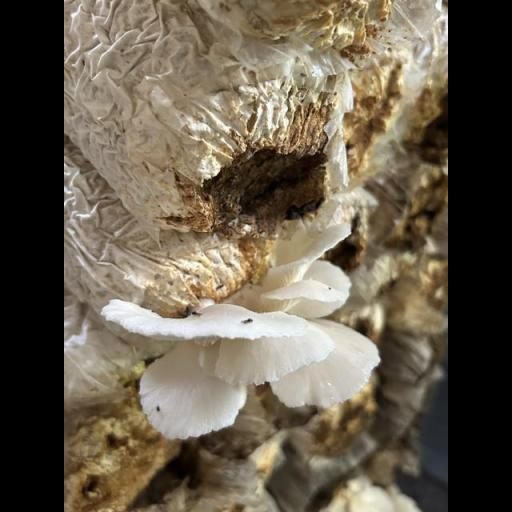White Oyster Mushroom: (109, 225, 381, 438)
